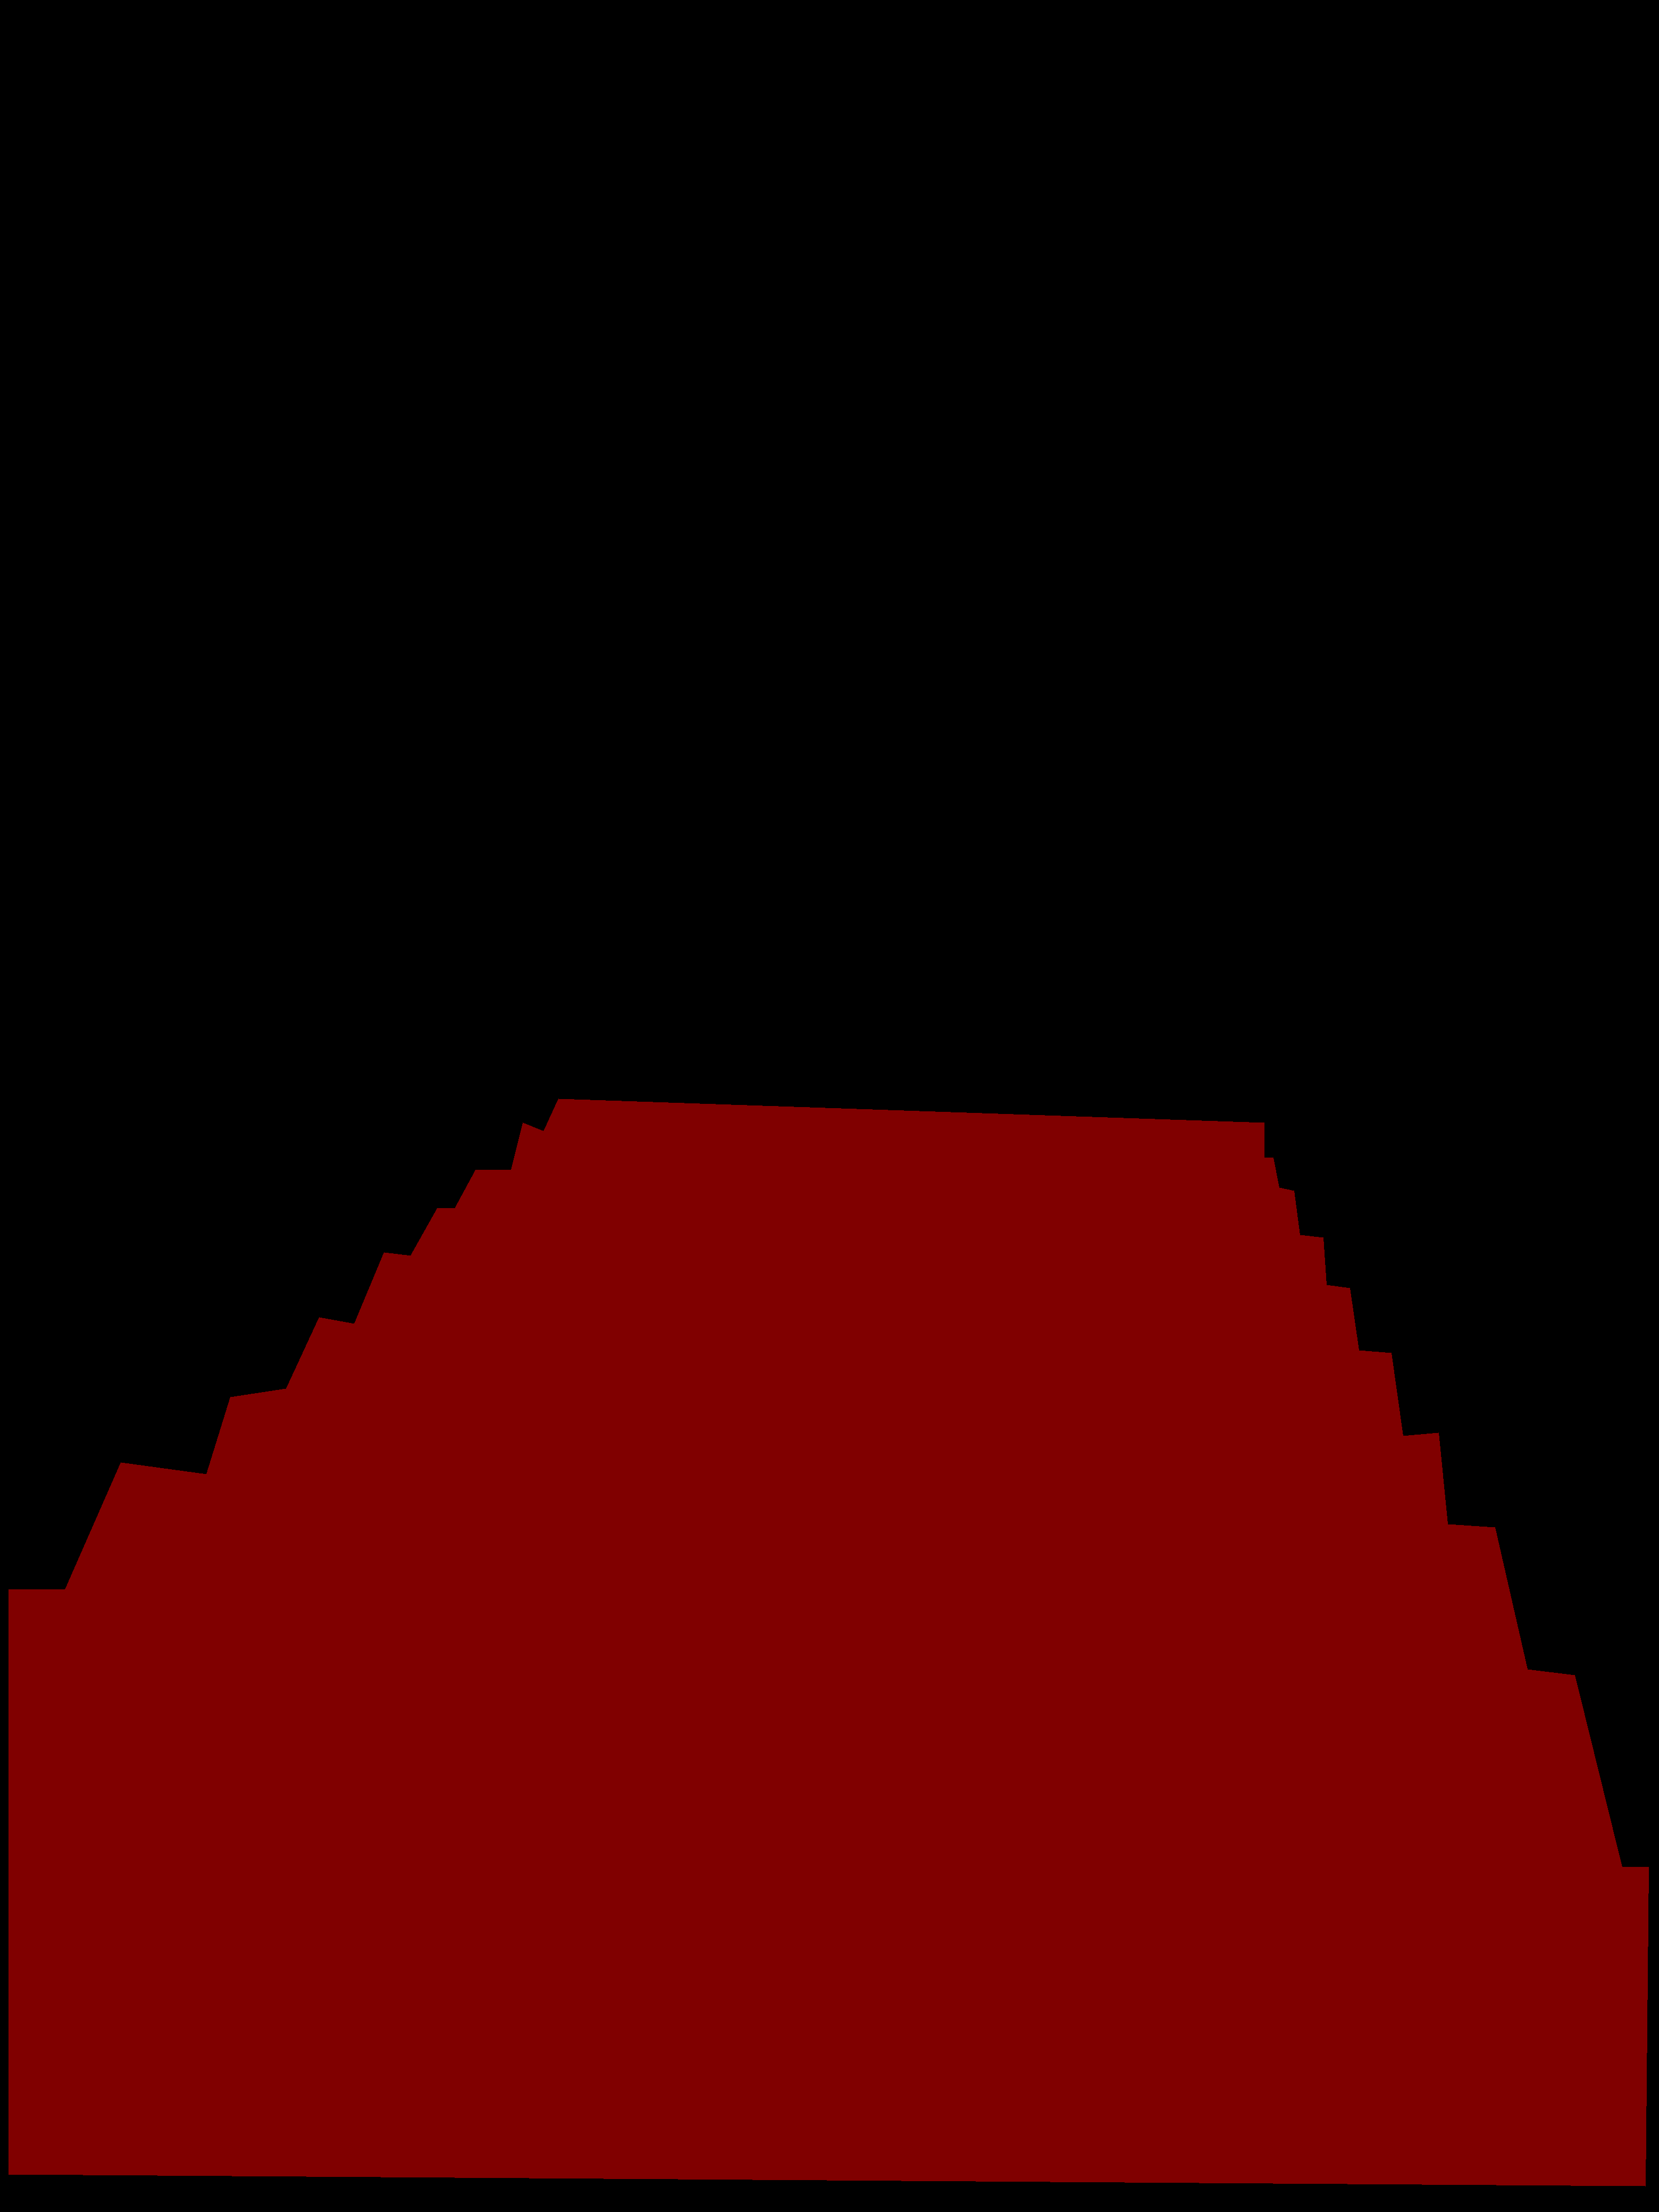stair: (9, 1099, 1649, 2186)
